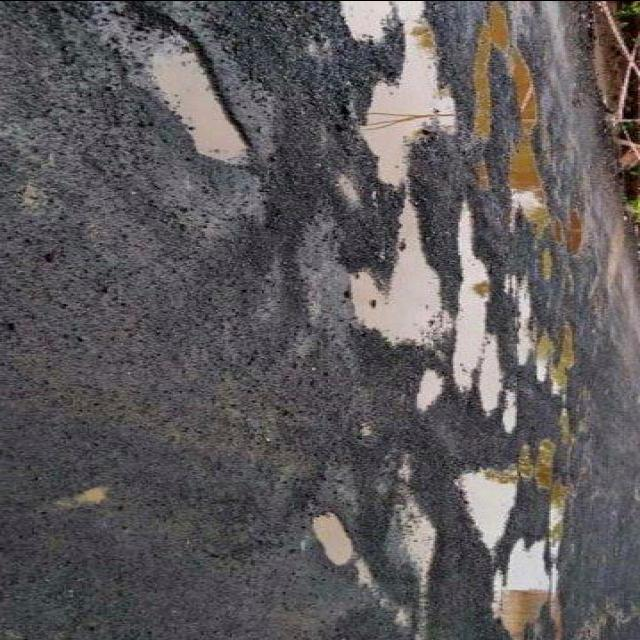lubang: (109, 0, 262, 172), (321, 0, 458, 185), (342, 188, 468, 352), (514, 410, 620, 562), (442, 203, 515, 402), (377, 448, 452, 640), (483, 536, 590, 640), (530, 304, 606, 432), (446, 458, 530, 560), (501, 125, 572, 227), (304, 506, 382, 590), (498, 268, 548, 380), (464, 30, 499, 145), (46, 476, 128, 520), (404, 363, 456, 422), (506, 56, 542, 132), (478, 0, 519, 51), (556, 210, 597, 260), (528, 242, 570, 288), (472, 153, 504, 188), (506, 385, 524, 439)
